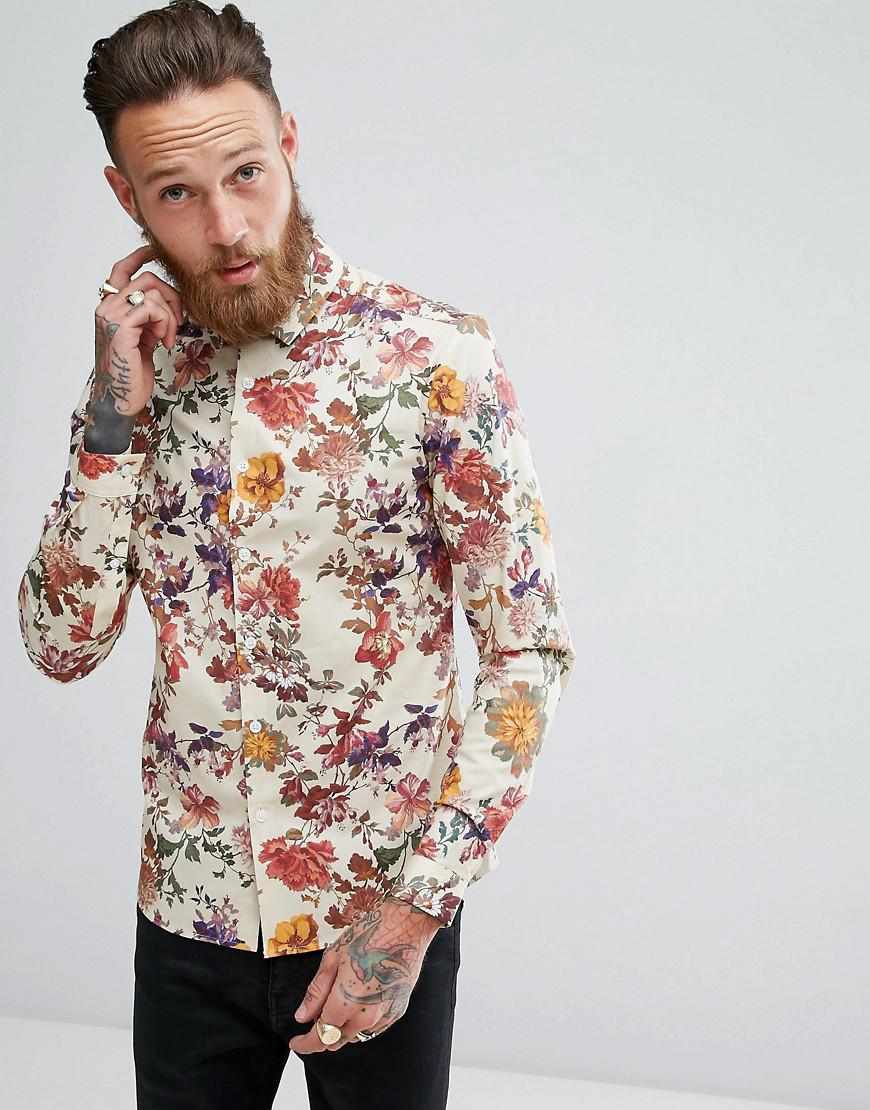teeshirt: (15, 246, 579, 1013)
